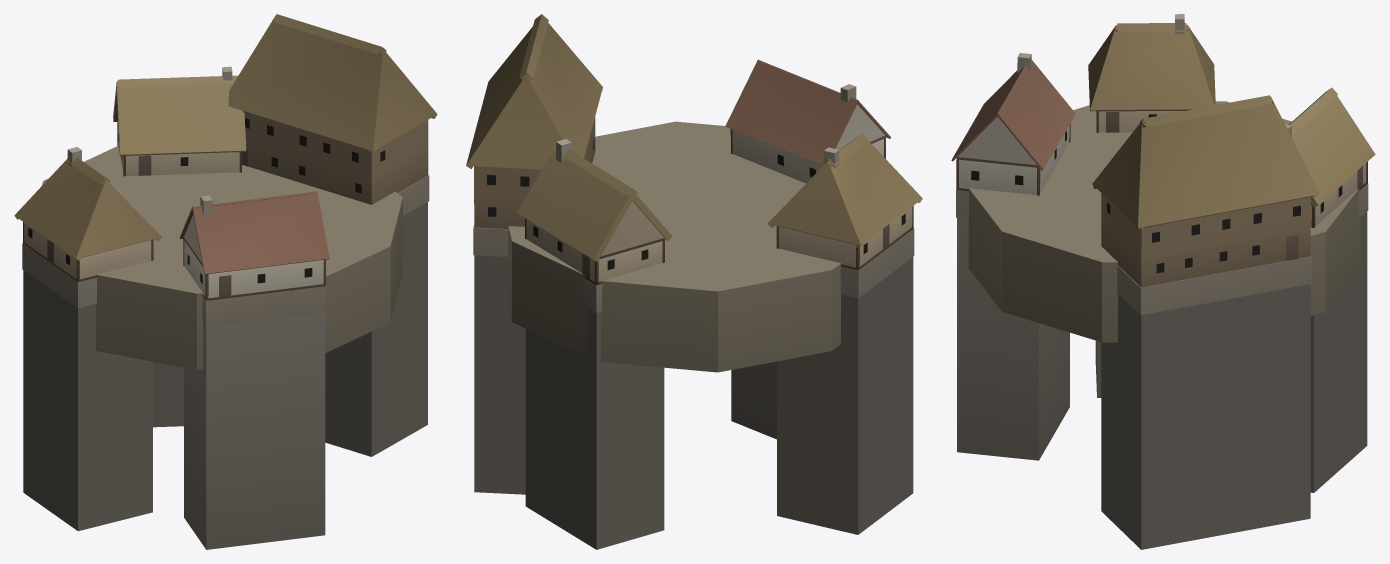
The model's file is hamlet_b.glb.
The picture shows the model from 3 angles, left to right: view 1: azimuth 30°, elevation 25°; view 2: azimuth 150°, elevation 25°; view 3: azimuth 270°, elevation 25°; orthographic projection. The views are drawn at different scales.
Parts seen in each view (by area): view 1: hamlet_b; view 2: hamlet_b; view 3: hamlet_b.
Part boxes in pixels (bbox=[...]): hamlet_b: bbox=[14, 14, 437, 549]; hamlet_b: bbox=[466, 14, 922, 549]; hamlet_b: bbox=[951, 14, 1375, 549].
Size of the model in its own units: 0.6107 by 0.5851 by 0.551.
